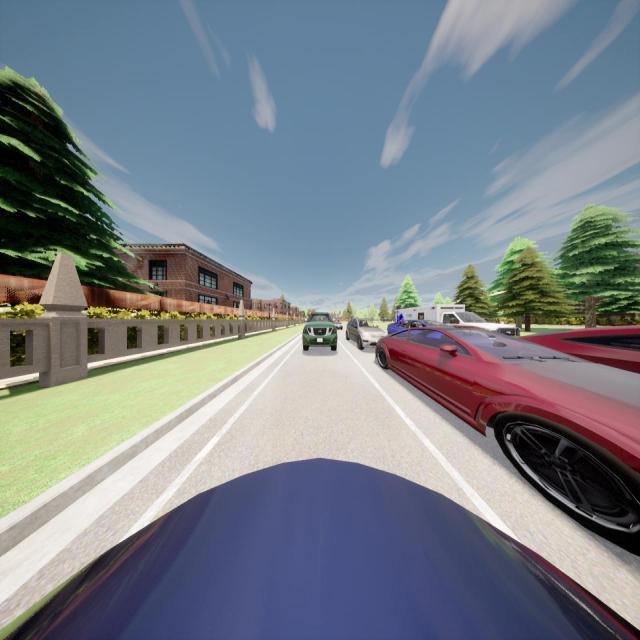Vehicle: (0, 455, 640, 640), (376, 324, 640, 553), (516, 319, 640, 365), (394, 303, 518, 334), (302, 312, 337, 351), (346, 318, 385, 349), (387, 320, 451, 336), (333, 320, 343, 330)
